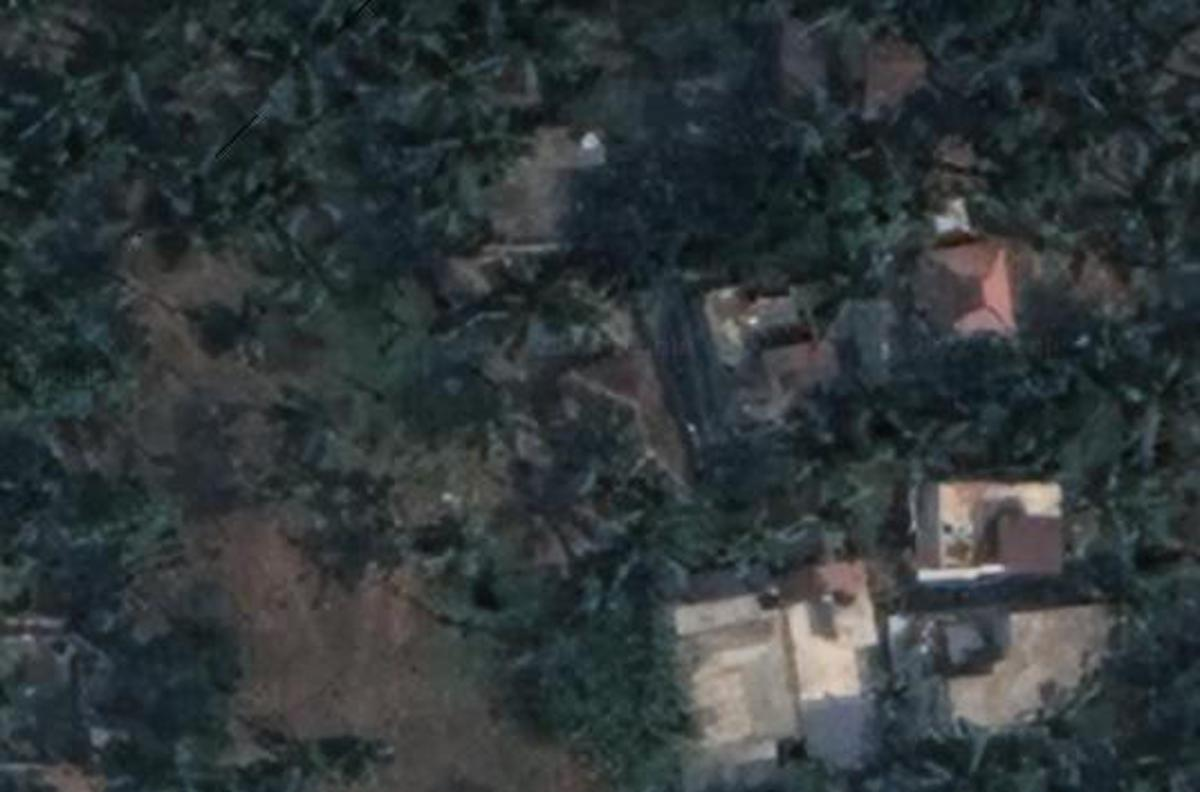coconut: (248, 0, 379, 114), (482, 244, 607, 363), (67, 4, 188, 118), (466, 0, 603, 100), (392, 29, 511, 141), (1103, 334, 1200, 462), (767, 74, 883, 175), (145, 118, 251, 228), (448, 367, 551, 480), (951, 0, 1067, 100), (82, 462, 188, 569), (1090, 448, 1191, 558), (874, 385, 977, 491), (594, 482, 684, 603), (717, 471, 811, 585), (800, 401, 903, 504), (262, 213, 367, 314), (31, 262, 132, 367), (1076, 69, 1179, 170), (11, 71, 116, 168), (486, 468, 587, 567), (986, 170, 1090, 264), (515, 592, 616, 688), (554, 394, 650, 491), (4, 154, 96, 251), (1011, 682, 1108, 774), (405, 161, 500, 251), (271, 392, 358, 486), (421, 502, 511, 590), (159, 17, 251, 100), (329, 453, 414, 542), (316, 717, 412, 792), (204, 298, 289, 376), (1121, 231, 1200, 314)
